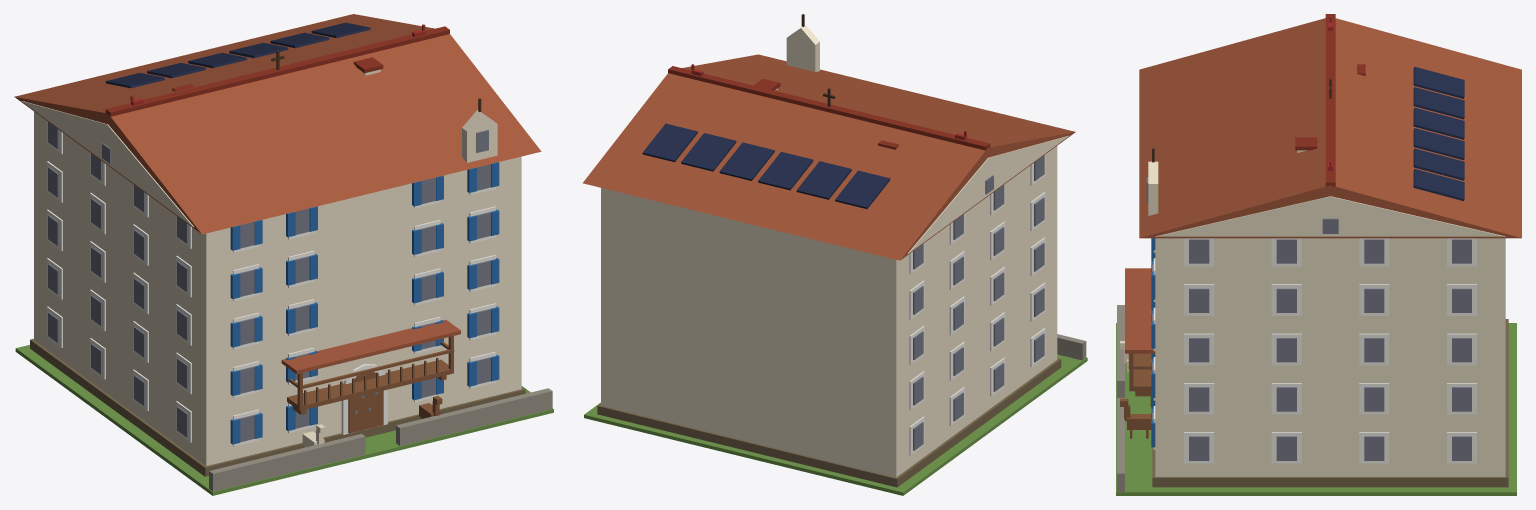
File: house-2x2-5f-andean-a-solar.glb
3 views of the same model, side by side, from view 1: azimuth 30°, elevation 25°; view 2: azimuth 150°, elevation 25°; view 3: azimuth 270°, elevation 25° (orthographic). The views are drawn at different scales.
Visible parts, largest first — view 1: house-2x2-5f-andean-a-solar; view 2: house-2x2-5f-andean-a-solar; view 3: house-2x2-5f-andean-a-solar.
Part boxes in pixels (x1,y1,x2,y2): house-2x2-5f-andean-a-solar: (14, 14, 553, 495); house-2x2-5f-andean-a-solar: (583, 14, 1087, 495); house-2x2-5f-andean-a-solar: (1116, 14, 1521, 495).
Bounding box in the file's own units: 2.01 × 1.82 × 2.01.
Materials: 1 (1 with a texture image).
